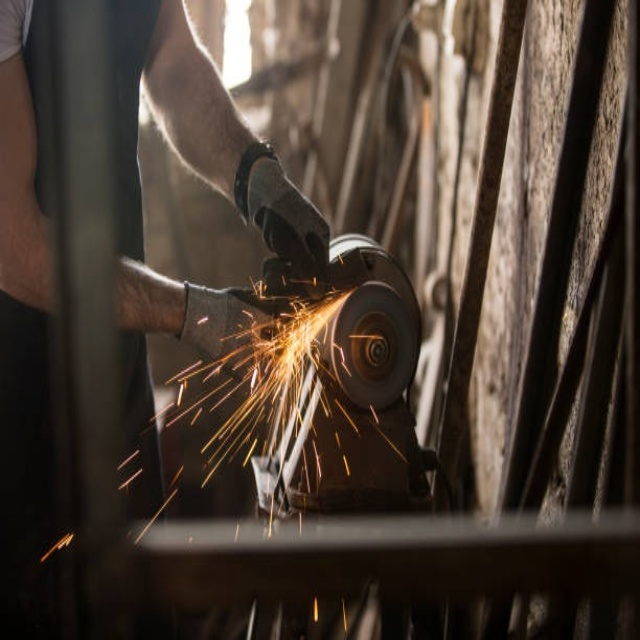Guantes: (234, 142, 332, 278), (176, 278, 278, 358)
